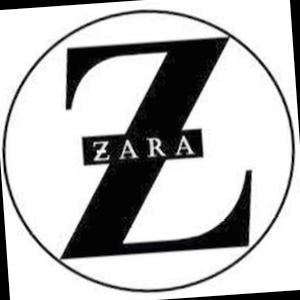zara: (87, 132, 199, 165)
